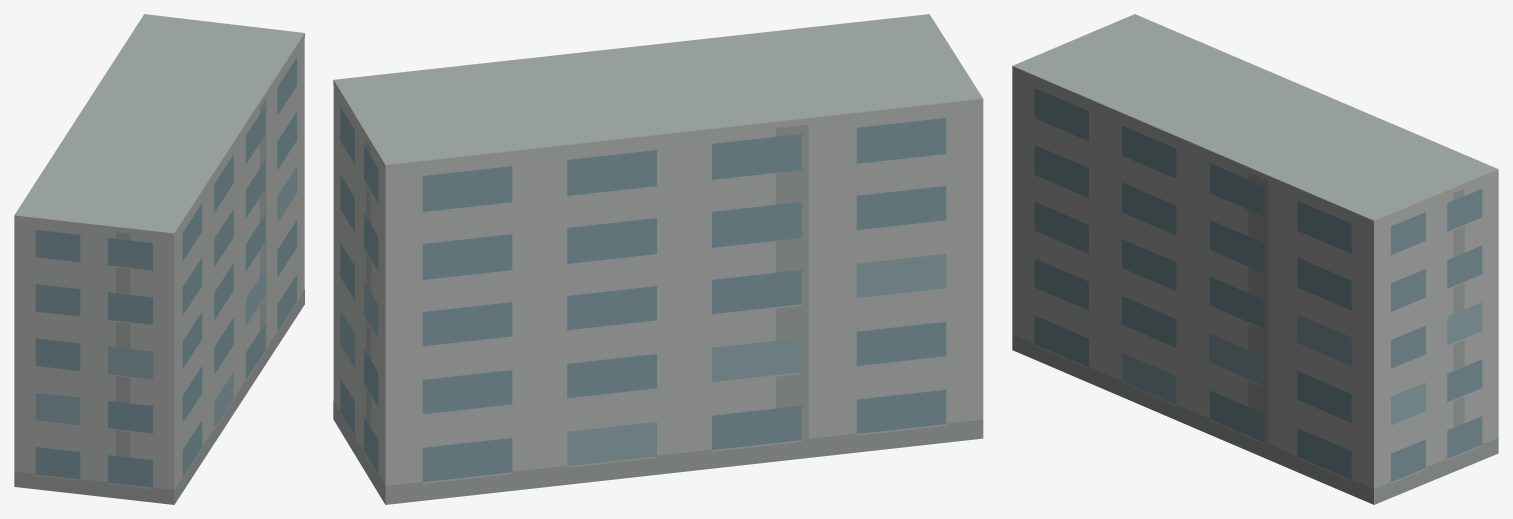
Rendered from survey-upis-32586607.glb.
3 views of the same model, side by side, from view 1: azimuth 30°, elevation 25°; view 2: azimuth 150°, elevation 25°; view 3: azimuth 270°, elevation 25° (orthographic). The views are drawn at different scales.
Parts seen in each view (by area): view 1: survey-upis-32586607.tmp; view 2: survey-upis-32586607.tmp; view 3: survey-upis-32586607.tmp.
Boxes of the visible parts, x1=… form: survey-upis-32586607.tmp: x1=14, y1=14, x2=304, y2=504; survey-upis-32586607.tmp: x1=333, y1=14, x2=983, y2=504; survey-upis-32586607.tmp: x1=1012, y1=14, x2=1498, y2=504.
Size of the model in its own units: 20.61 by 13.2 by 20.49.
